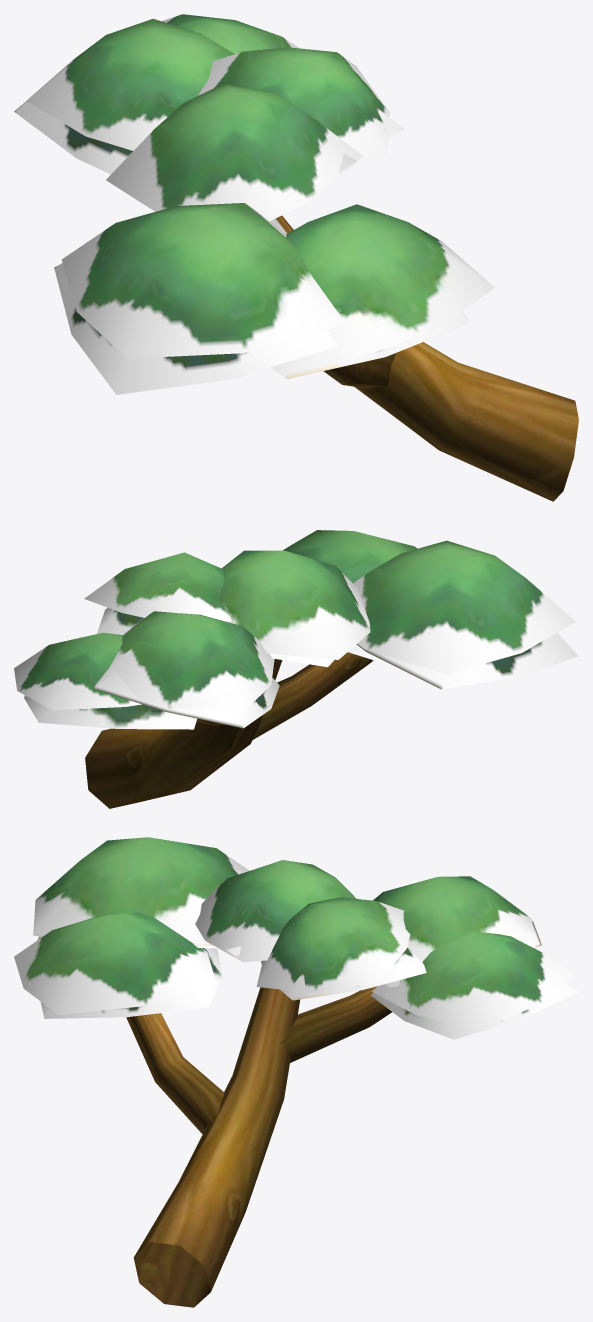
The model's file is gonghui_shu_01 (12) #48650071.fbx.
The picture shows the model from 3 angles, top to bottom: view 1: azimuth 30°, elevation 25°; view 2: azimuth 150°, elevation 25°; view 3: azimuth 270°, elevation 25°; orthographic projection. The views are drawn at different scales.
Parts seen in each view (by area): view 1: gonghui_shu_01 (12), Cylinder049; view 2: gonghui_shu_01 (12), Cylinder049; view 3: gonghui_shu_01 (12), Cylinder049.
Part boxes in pixels (box(x1,y1,x2,y2)): gonghui_shu_01 (12): box(14, 14, 494, 394); Cylinder049: box(276, 215, 578, 501); gonghui_shu_01 (12): box(14, 530, 578, 729); Cylinder049: box(85, 652, 373, 808); gonghui_shu_01 (12): box(14, 837, 578, 1039); Cylinder049: box(126, 986, 391, 1307).
Size of the model in its own units: 2.87 by 2.19 by 3.27.
